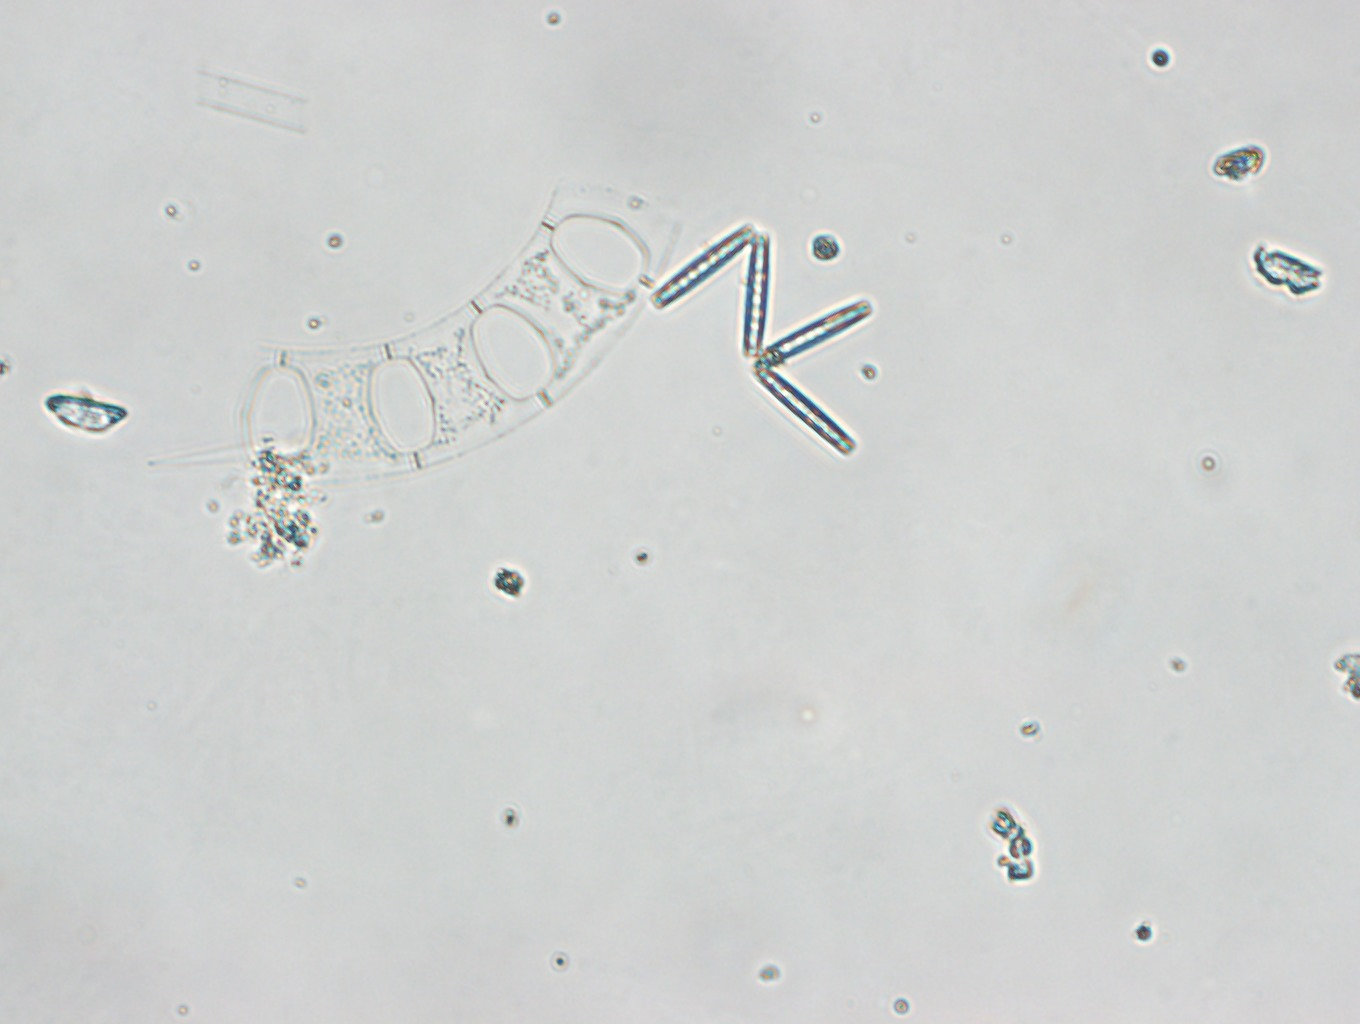eucampia: (232, 173, 691, 478)
thalassionema nitzschioides: (650, 212, 869, 460)
